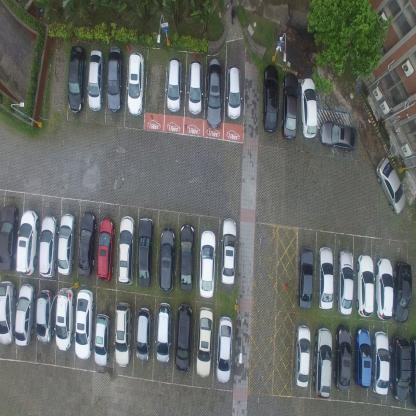car: (375, 155, 406, 214), (16, 209, 39, 275), (74, 288, 94, 360), (14, 282, 36, 346), (389, 334, 410, 401), (174, 303, 194, 372), (314, 325, 332, 400), (67, 44, 86, 114), (196, 306, 214, 378), (136, 217, 154, 288), (77, 211, 96, 277), (334, 322, 352, 391), (392, 262, 412, 324), (375, 255, 394, 320), (96, 216, 115, 281), (39, 213, 58, 278), (215, 316, 233, 384), (117, 216, 135, 284), (0, 204, 18, 272), (320, 120, 357, 153), (372, 330, 390, 396), (293, 324, 311, 390), (55, 285, 73, 351), (57, 212, 76, 274), (356, 252, 374, 317), (114, 302, 132, 367), (127, 52, 145, 117), (220, 216, 237, 284), (199, 230, 216, 298), (106, 45, 123, 112), (206, 58, 222, 129), (86, 48, 104, 111), (337, 249, 354, 315), (158, 228, 175, 294), (354, 325, 372, 387), (300, 76, 318, 138), (178, 223, 194, 292), (282, 71, 298, 139), (262, 64, 278, 132), (156, 301, 173, 363), (0, 280, 16, 345), (298, 245, 314, 309), (36, 288, 54, 344), (318, 245, 333, 311), (136, 305, 152, 364), (187, 58, 203, 116), (94, 312, 111, 365), (226, 64, 242, 120), (166, 56, 182, 112), (409, 337, 416, 408)
